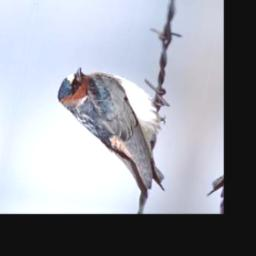Swallow: (39, 66, 190, 201)
